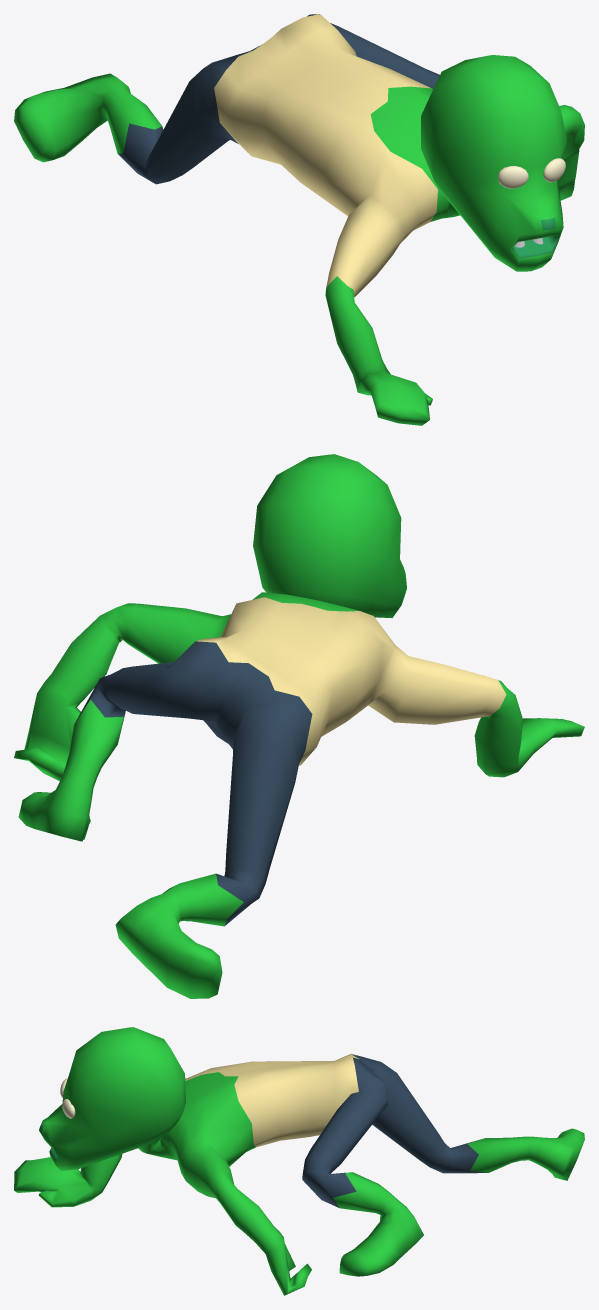
The model's file is Test_Char.fbx.
The picture shows the model from 3 angles, top to bottom: view 1: azimuth 30°, elevation 25°; view 2: azimuth 150°, elevation 25°; view 3: azimuth 270°, elevation 25°; orthographic projection. The views are drawn at different scales.
Visible parts, largest first — view 1: Zombie_Fast.002; view 2: Zombie_Fast.002; view 3: Zombie_Fast.002.
Part boxes in pixels (x1,y1,x2,y2): Zombie_Fast.002: [14, 14, 584, 425]; Zombie_Fast.002: [14, 454, 584, 998]; Zombie_Fast.002: [14, 1027, 584, 1295].
Bounding box in the file's own units: 1.25 × 0.9102 × 2.15.
